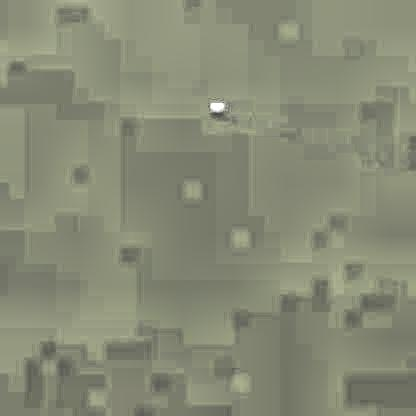golfball: (207, 100, 223, 112)
